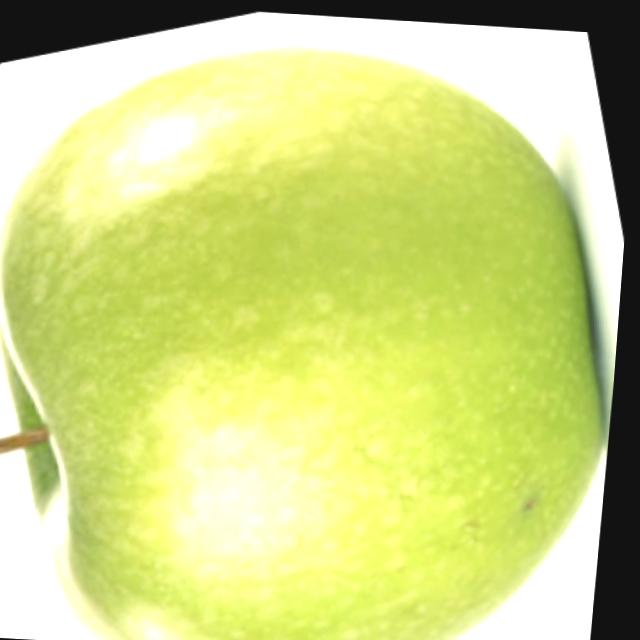organik: (0, 35, 597, 640)
